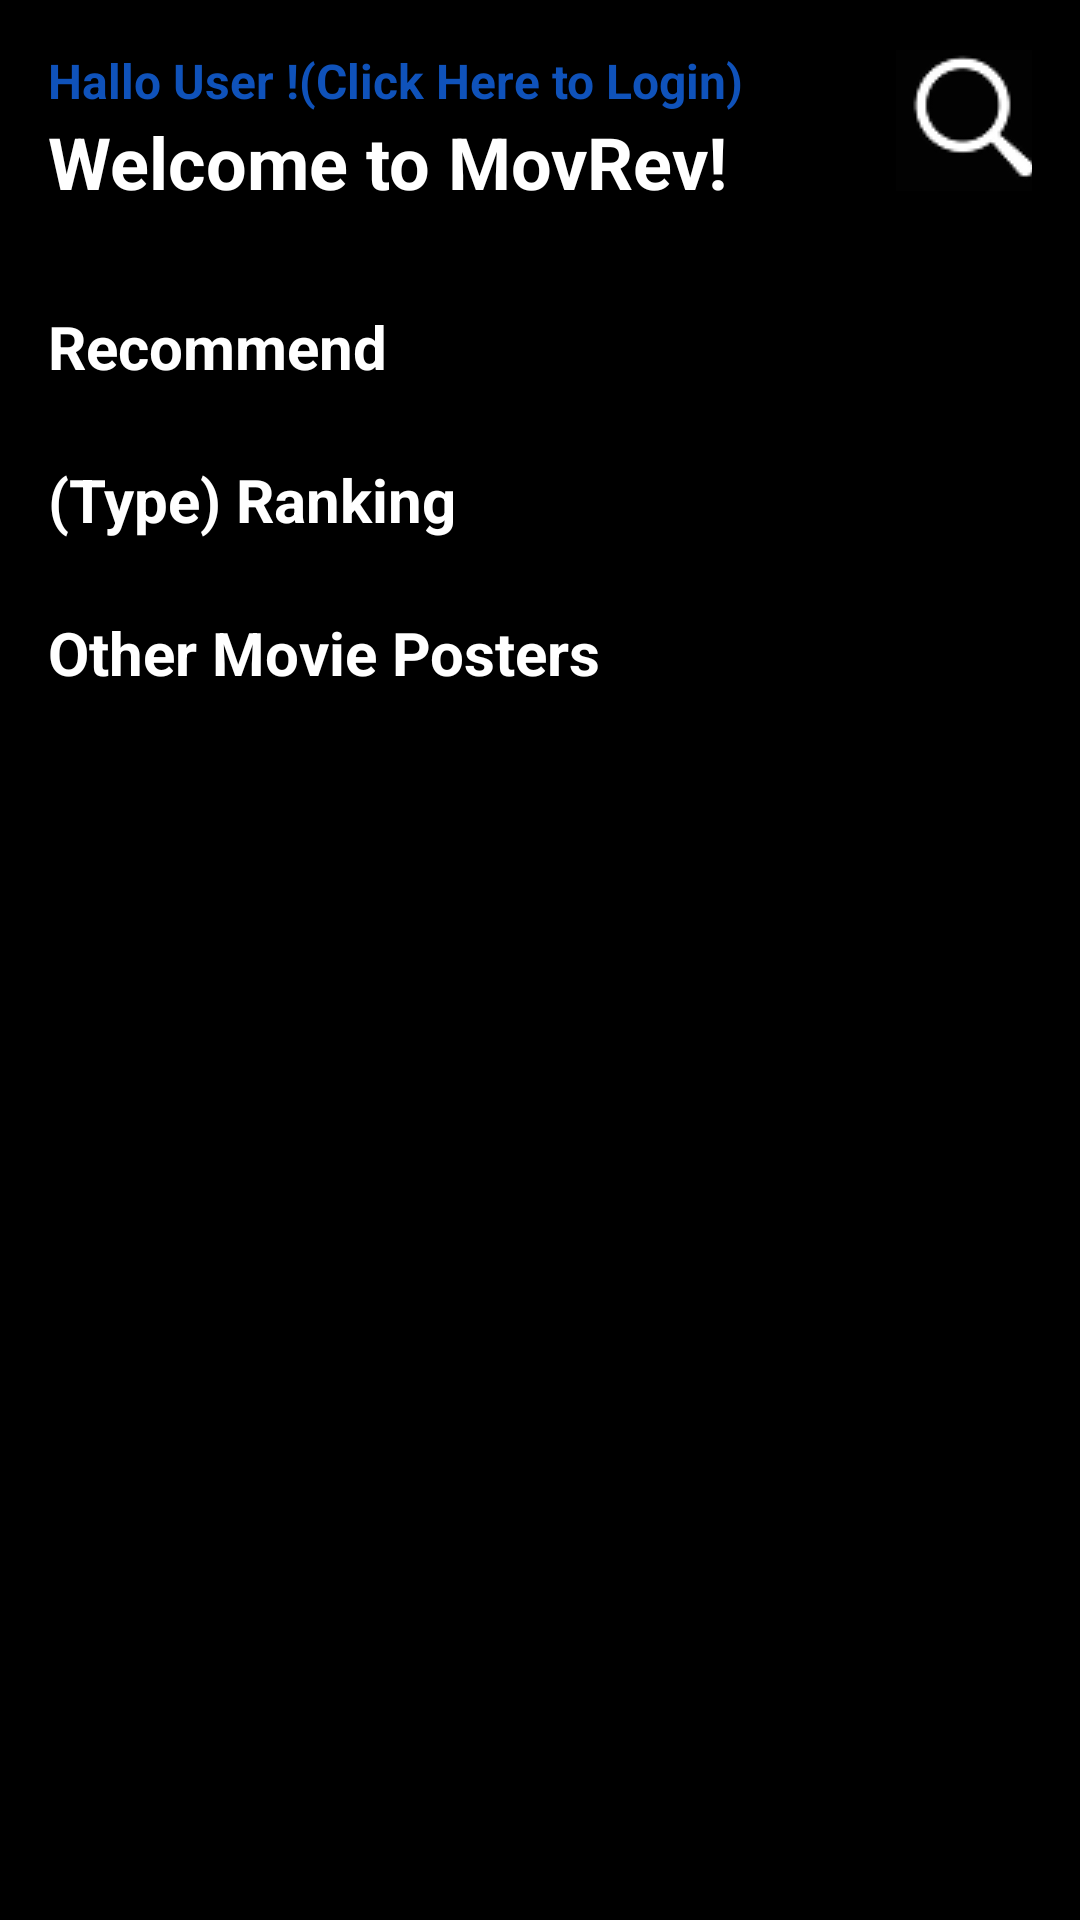

Icons on this 1080px×1920px Android screen, each with the point to tap as [x,y]:
Search: [972,116]
